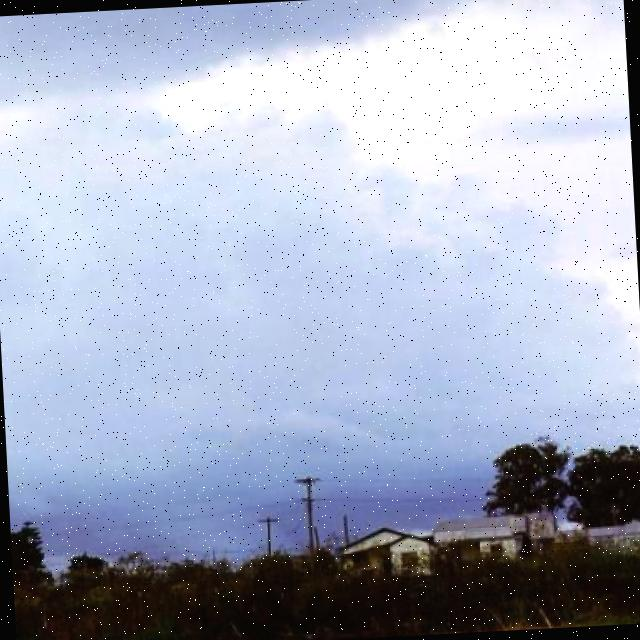Sc: (1, 1, 640, 410)
